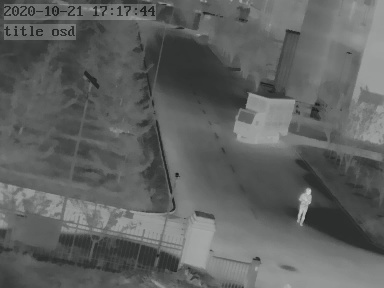person: (297, 185, 311, 225)
vehicle: (233, 84, 289, 143)
